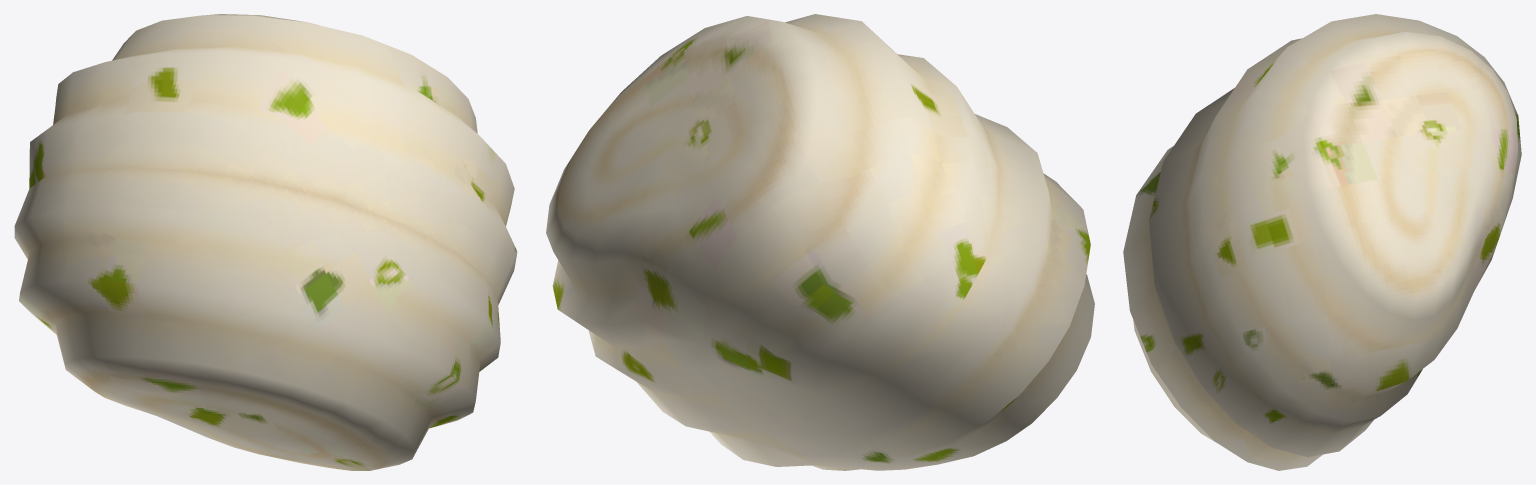
The model's file is ref_bfflowerroll.fbx.
3 views of the same model, side by side, from view 1: azimuth 30°, elevation 25°; view 2: azimuth 150°, elevation 25°; view 3: azimuth 270°, elevation 25° (orthographic). The views are drawn at different scales.
Parts seen in each view (by area): view 1: ref_bfflowerroll; view 2: ref_bfflowerroll; view 3: ref_bfflowerroll.
Boxes of the visible parts, left/top/right/bottom form: ref_bfflowerroll: left=14, top=14, right=517, bottom=470; ref_bfflowerroll: left=546, top=14, right=1094, bottom=470; ref_bfflowerroll: left=1123, top=14, right=1521, bottom=470.
Size of the model in its own units: 100 by 88.06 by 81.79.
1 material, 1 textured.
